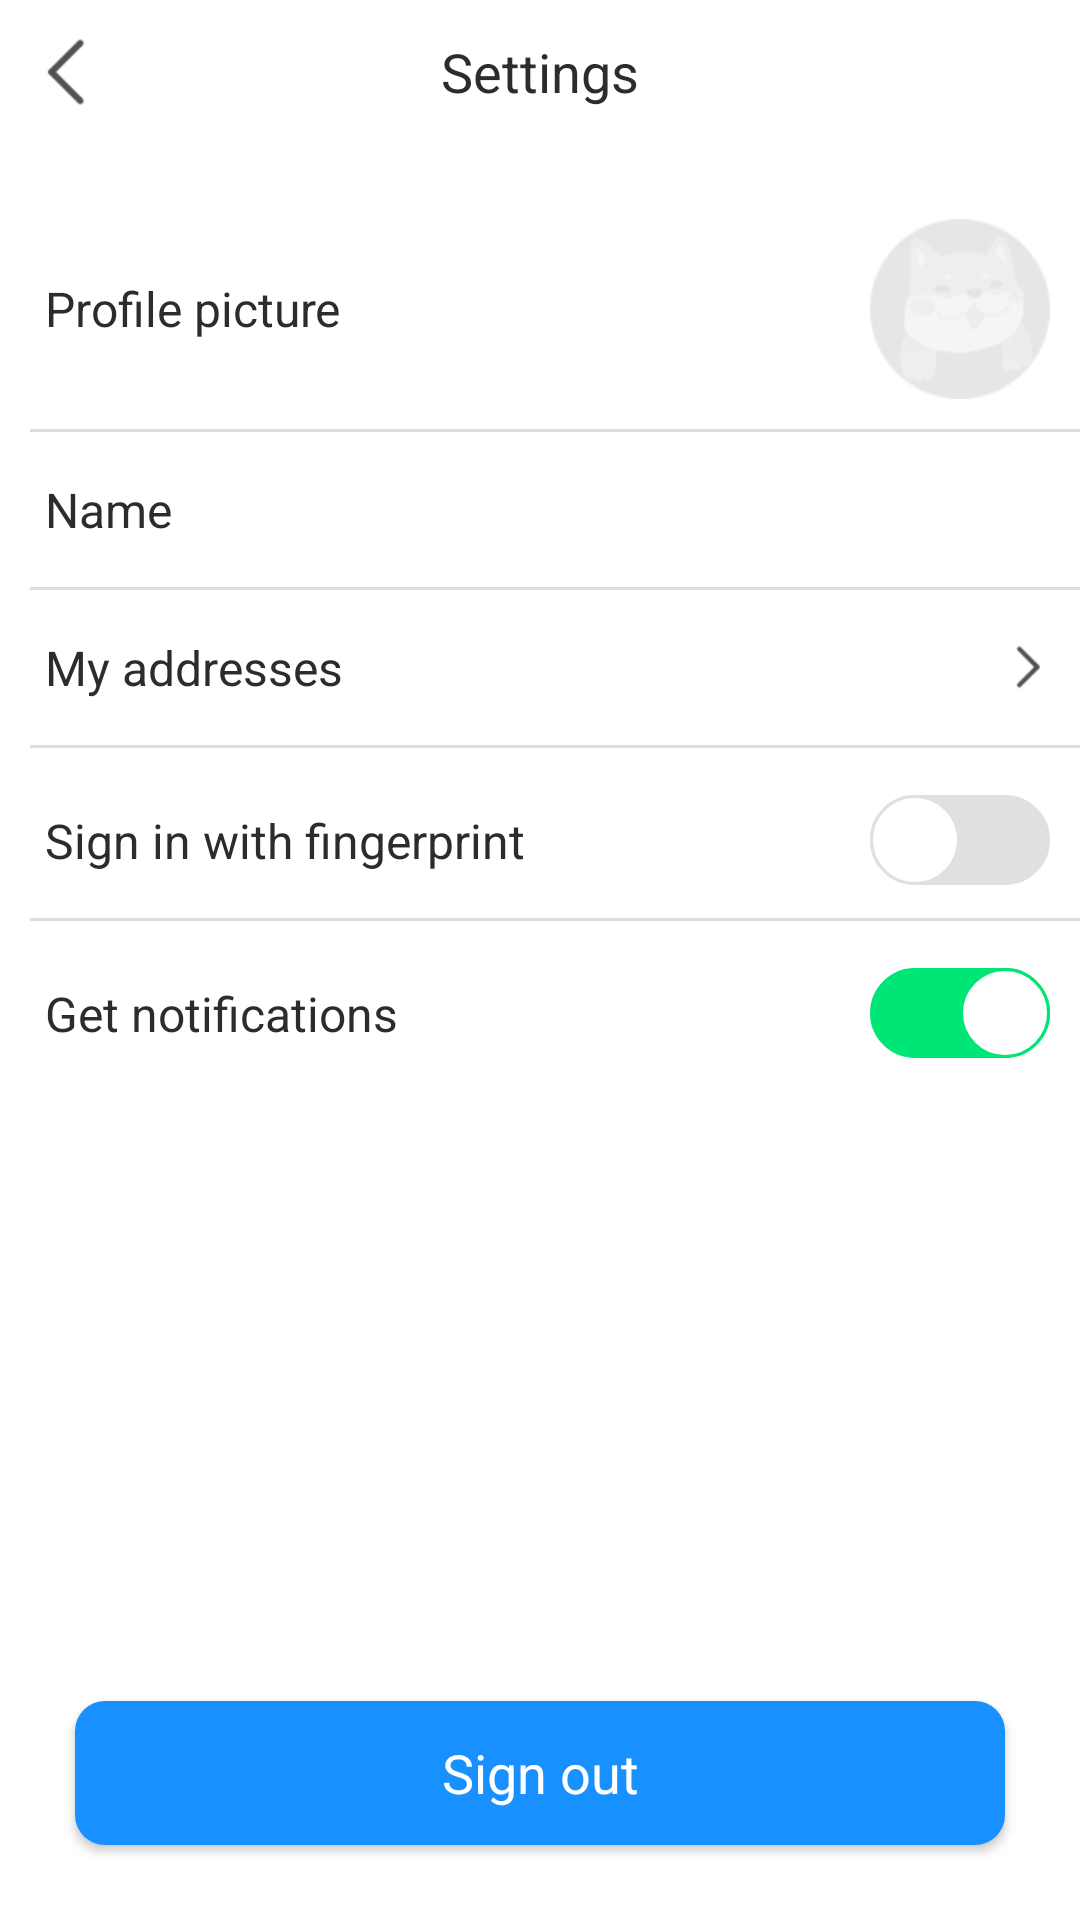

Where to tap for icons on this 1080px x 1920px app screen, as (x=x, y=y):
back: (x=65, y=72)
more: (x=1028, y=667)
